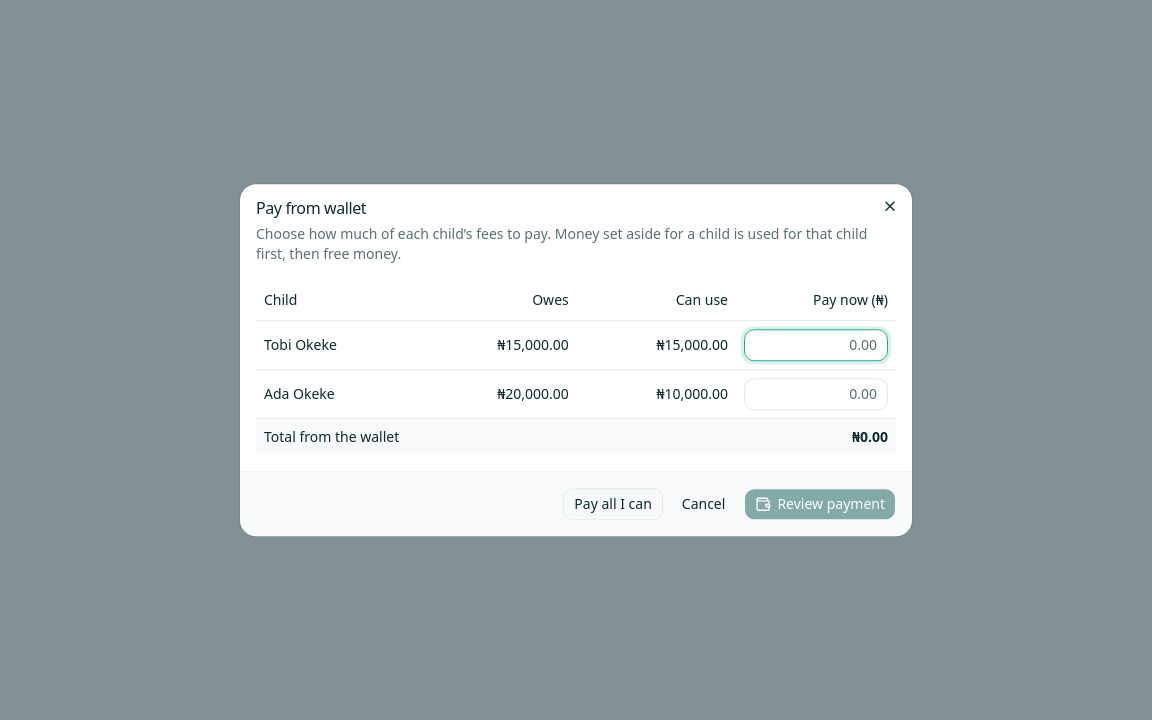
Test: PayFromWalletDialog table › uses set-aside money first, leaving the free money for the other child
This screenshot has width=1152, height=720.
Type "15000" into the field with placeholder "0.00" in the row of "Tobi Okeke" at (816, 345), box [744, 329, 888, 361]
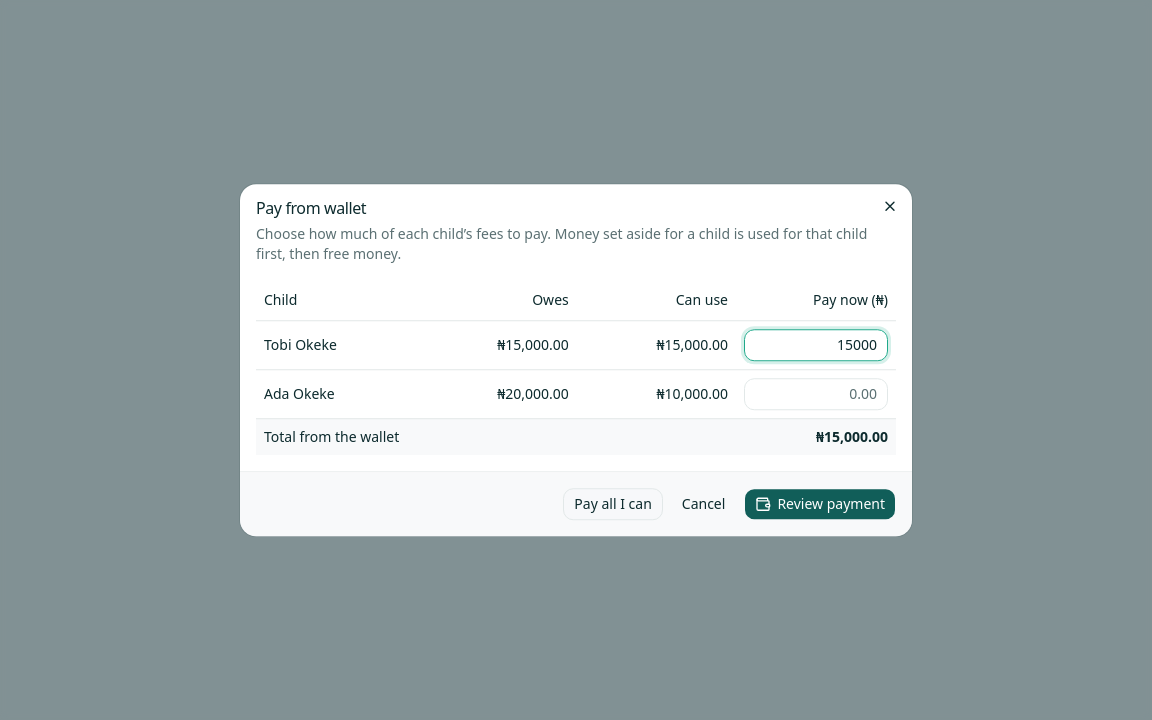
Type "10000" into the field with placeholder "0.00" at (816, 394), box [744, 378, 888, 410]
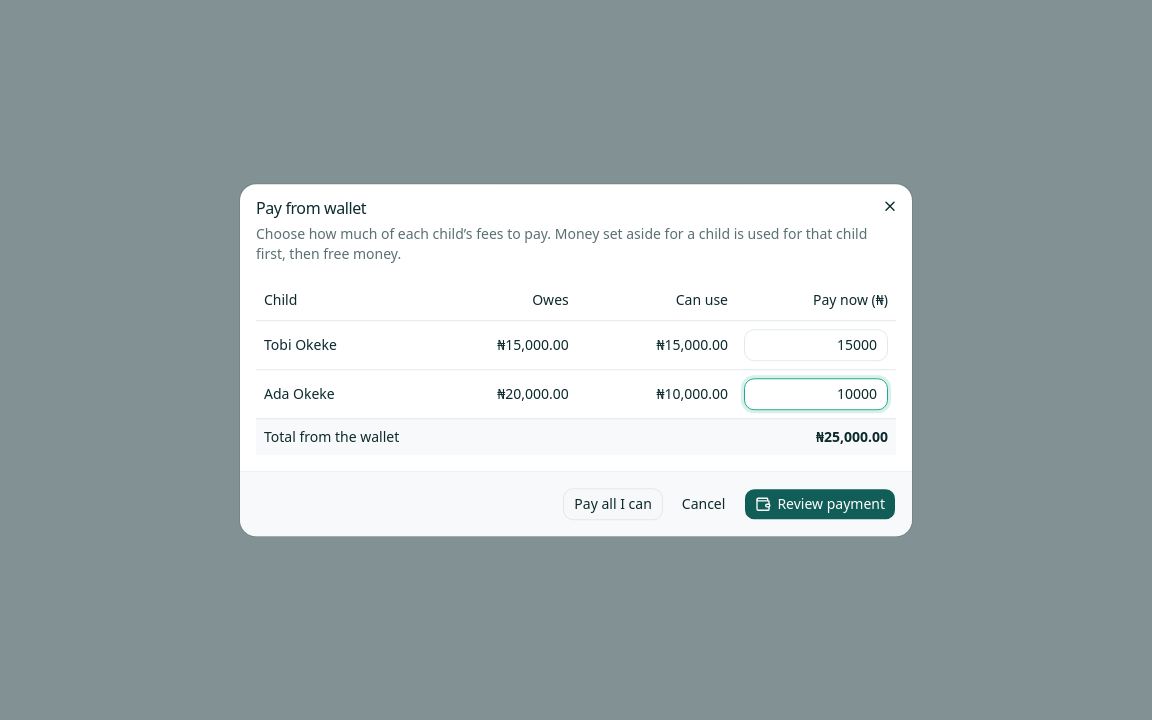
Now the button "Review payment" is enabled, box [744, 488, 896, 520]
Now the text "₦25,000.00" is shown, box [736, 418, 896, 455]
